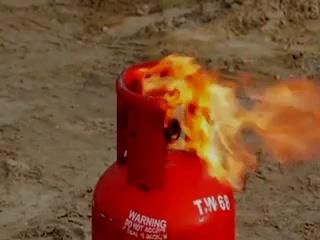Fire: (130, 43, 298, 184)
